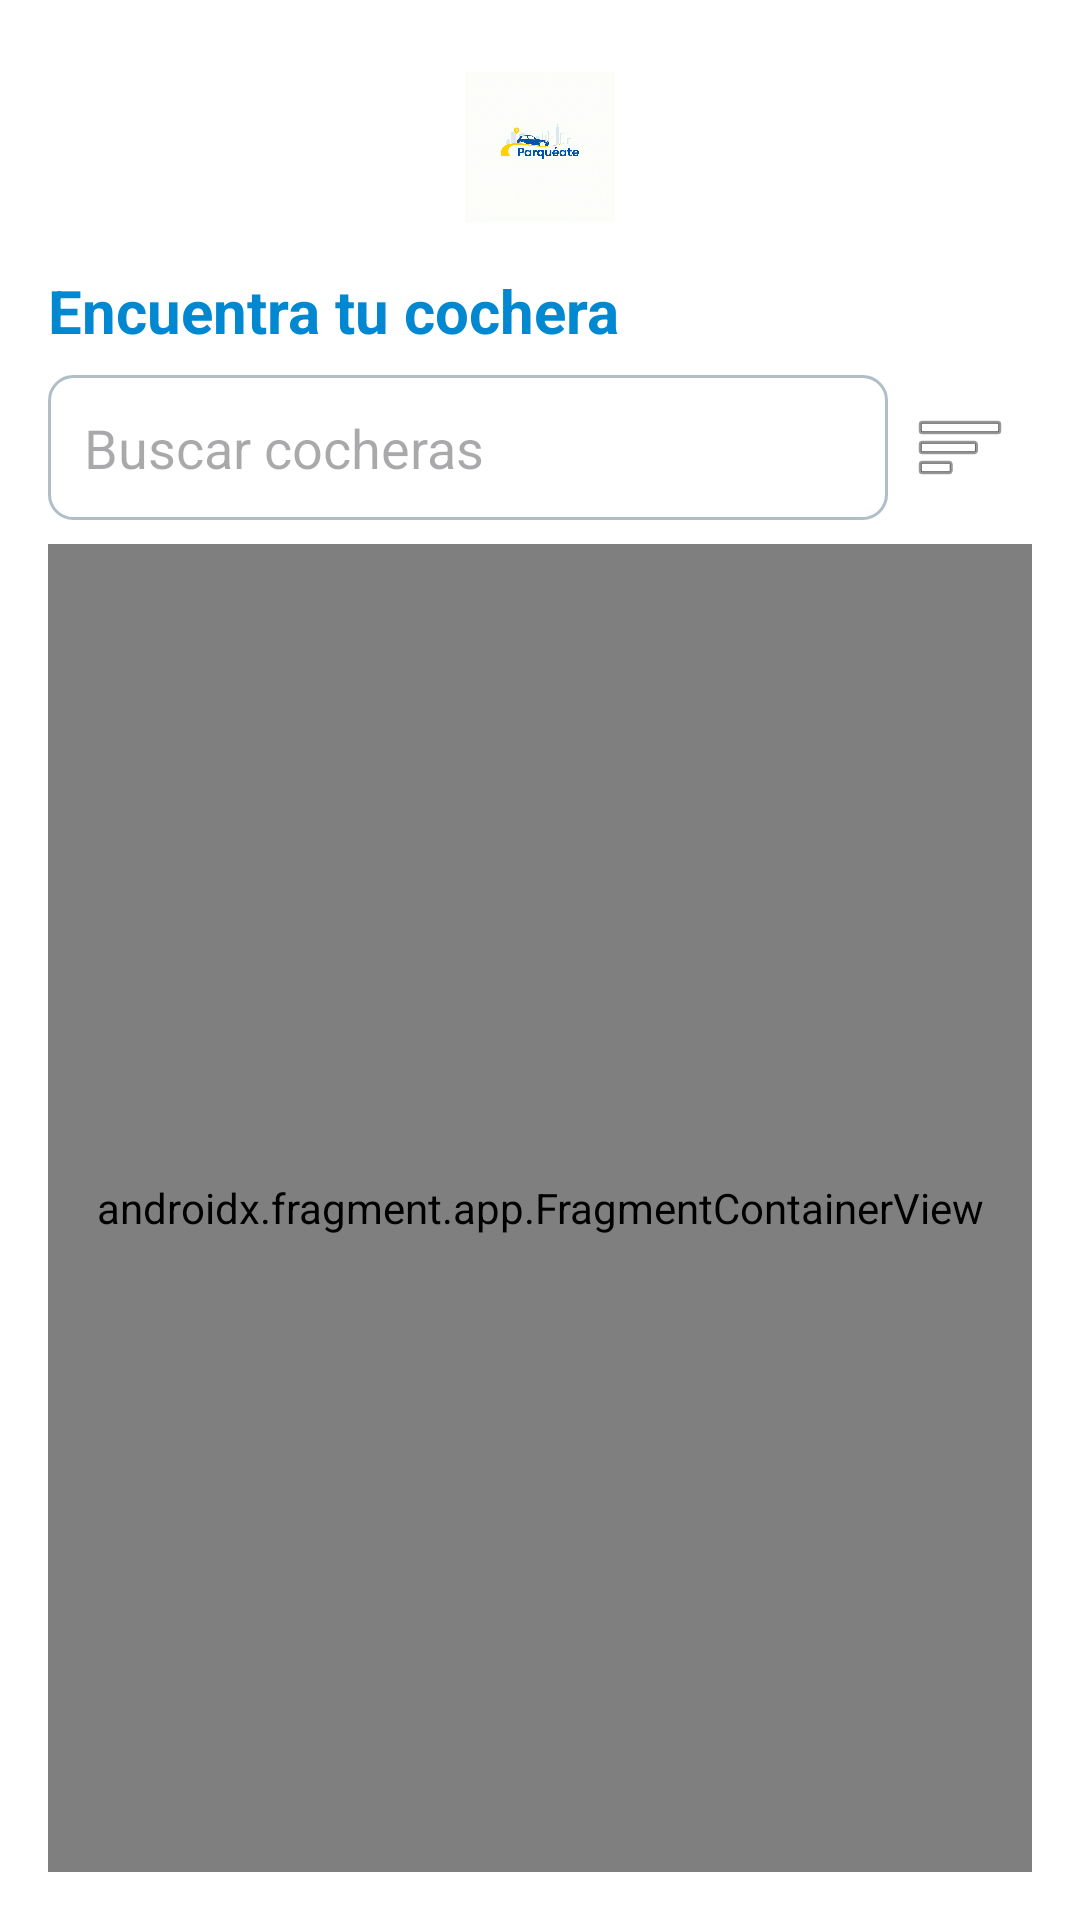

Point at icon controls on the screen. Image size 1080*1920, points as point (x, y).
Filtros: point (960, 447)
